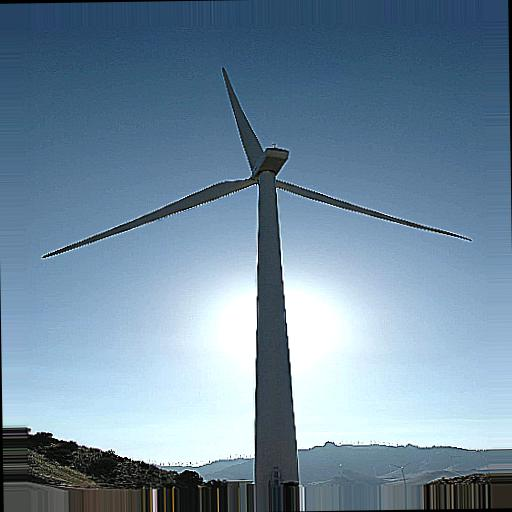wind turbine: (37, 62, 474, 480)
